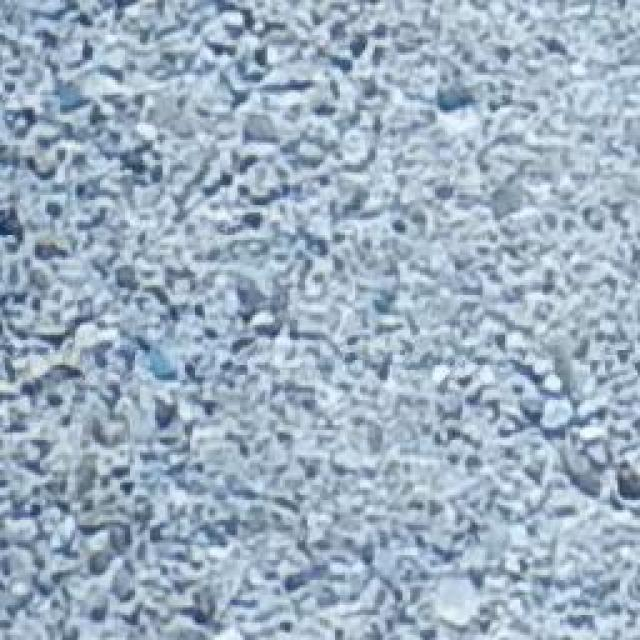concrete-crack: (8, 311, 566, 399)
